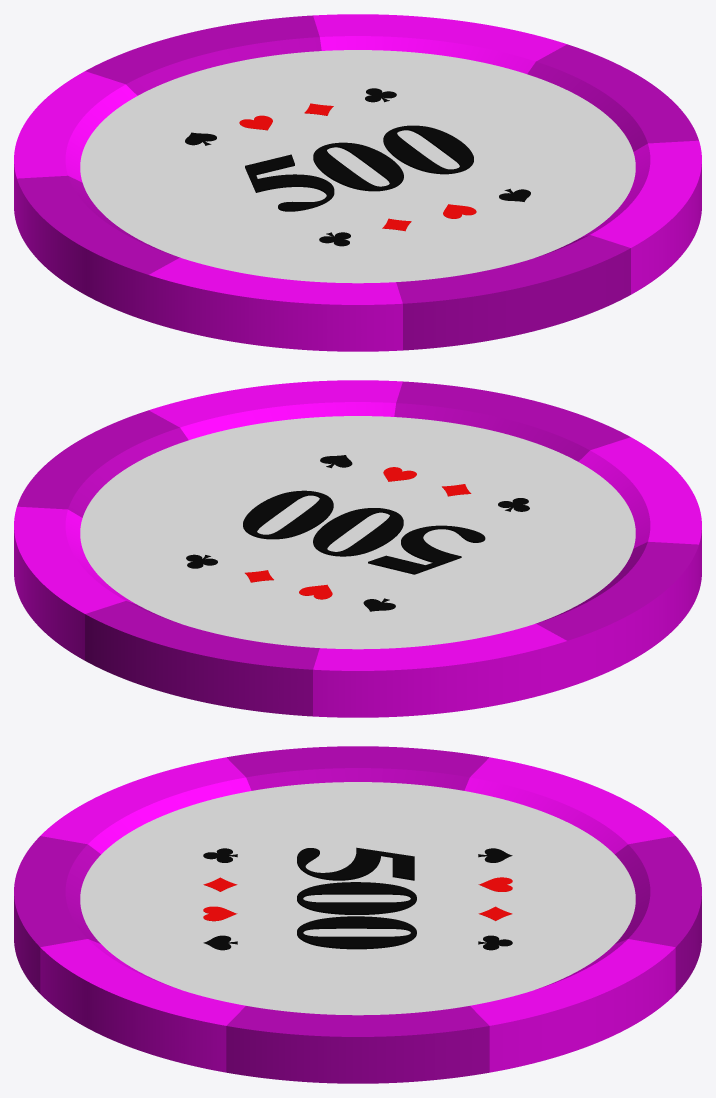
File: Value500Chip.fbx
3 renders of one model, top to bottom at view 1: azimuth 30°, elevation 25°; view 2: azimuth 150°, elevation 25°; view 3: azimuth 270°, elevation 25°, orthographic.
Visible parts, largest first — view 1: Base, Value01; view 2: Base, Value01; view 3: Base, Value01.
Part boxes in pixels (left/top/right/bottom): Base: left=14, top=14, right=701, bottom=351; Value01: left=245, top=125, right=473, bottom=211; Base: left=14, top=380, right=701, bottom=717; Value01: left=243, top=490, right=485, bottom=574; Base: left=14, top=746, right=701, bottom=1083; Value01: left=297, top=847, right=416, bottom=949.
Size of the model in its own units: 80 by 6 by 80.
